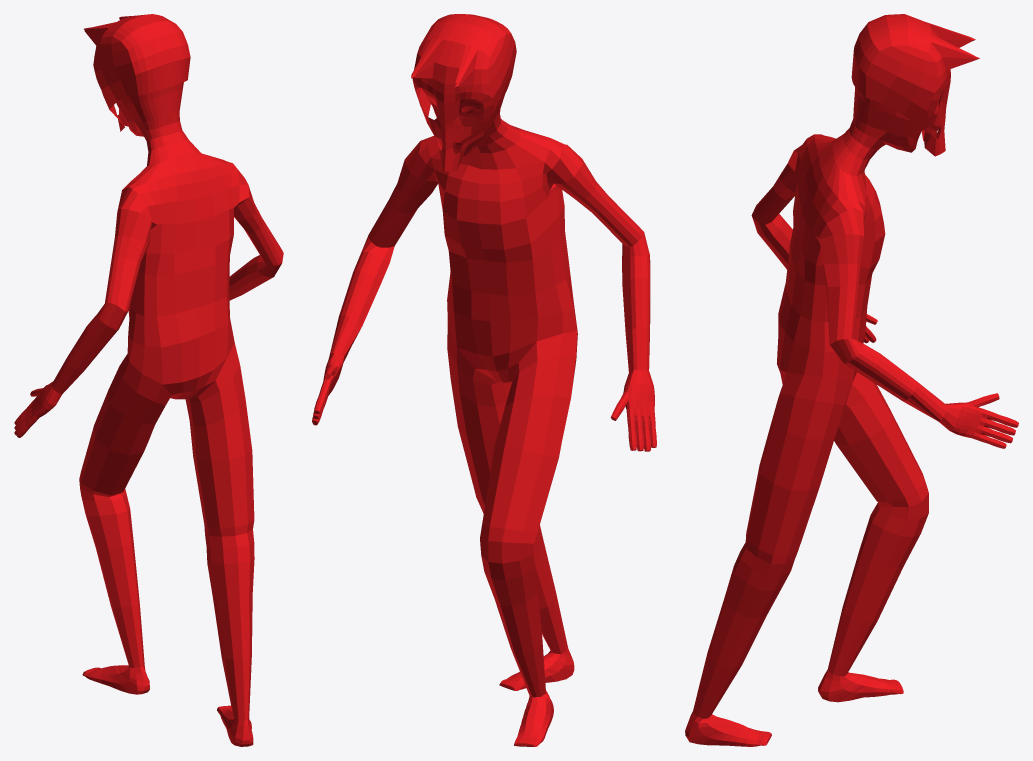
Rendered from marchaE_000034.obj.
The picture shows the model from 3 angles, left to right: view 1: azimuth 30°, elevation 25°; view 2: azimuth 150°, elevation 25°; view 3: azimuth 270°, elevation 25°; orthographic projection. The views are drawn at different scales.
Visible parts, largest first — view 1: Plane.002_Plane.001; view 2: Plane.002_Plane.001; view 3: Plane.002_Plane.001.
Part boxes in pixels (box(x1,y1,x2,y2)): Plane.002_Plane.001: box(14, 14, 283, 746); Plane.002_Plane.001: box(312, 14, 656, 746); Plane.002_Plane.001: box(685, 14, 1018, 746).
Size of the model in its own units: 2.86 by 6.84 by 2.89.
